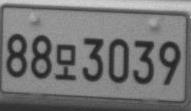0: (108, 37, 130, 83)
3: (131, 40, 155, 84), (81, 37, 103, 82)
7: (30, 33, 53, 79)
8: (5, 32, 27, 78)
9: (158, 40, 181, 85)
모: (55, 43, 77, 80)
